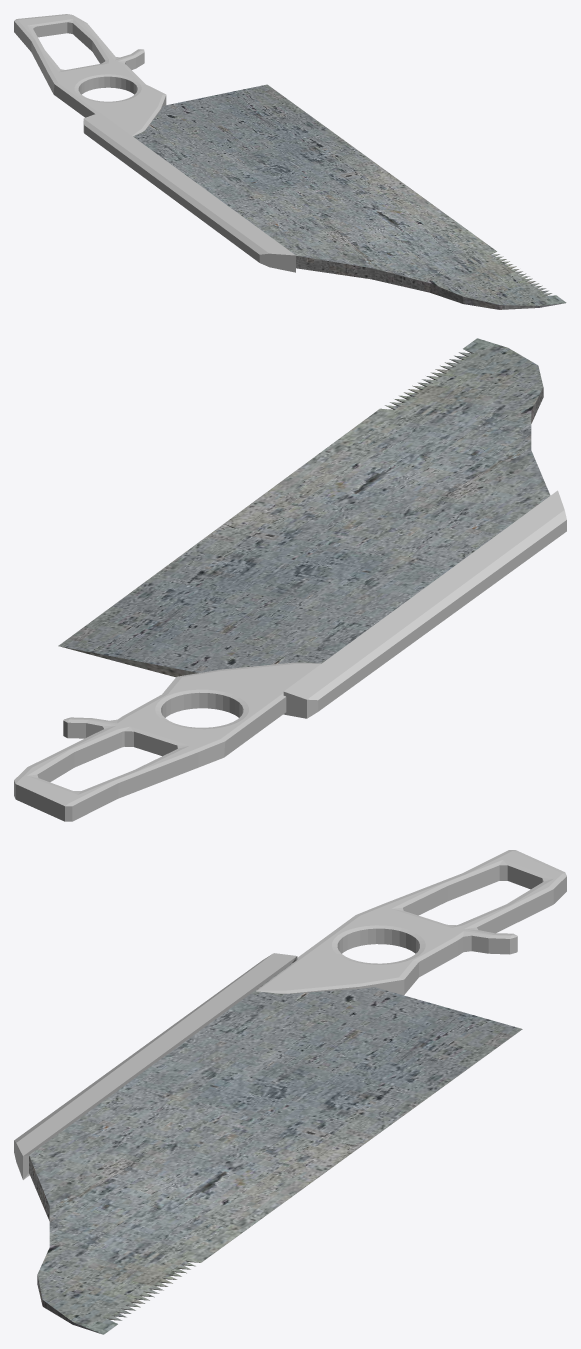
The model's file is sERRA.fbx.
3 views of the same model, one above another, from view 1: azimuth 30°, elevation 25°; view 2: azimuth 150°, elevation 25°; view 3: azimuth 330°, elevation 25° (orthographic). The views are drawn at different scales.
Parts seen in each view (by area): view 1: Cube; view 2: Cube; view 3: Cube.
Boxes of the visible parts, box(x1,y1,x2,y2) form: Cube: box(14, 14, 566, 309); Cube: box(14, 338, 566, 821); Cube: box(14, 850, 566, 1334).
Size of the model in its own units: 106 by 9.37 by 417.
